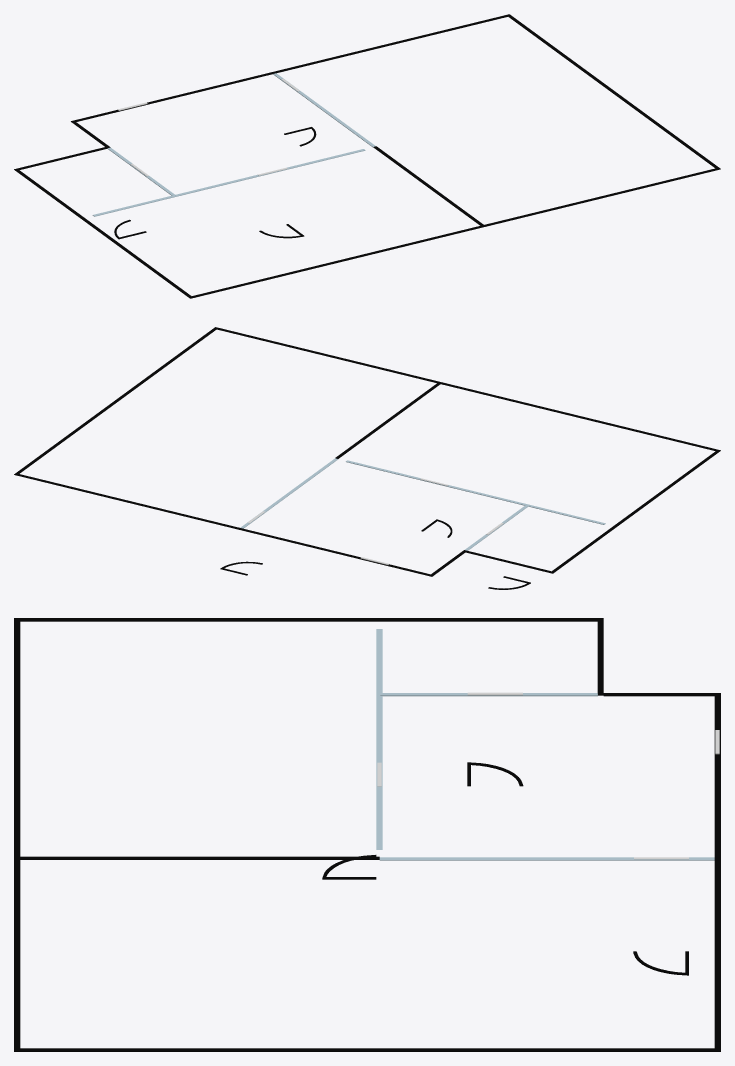
File: dingbuxian_hei.fbx
3 renders of one model, top to bottom at view 1: azimuth 30°, elevation 25°; view 2: azimuth 150°, elevation 25°; view 3: azimuth 270°, elevation 25°, orthographic. The views are drawn at different scales.
Visible parts, largest first — view 1: polySurface18, polySurface23, polySurface22, polySurface25, polySurface19, polySurface17; view 2: polySurface18, polySurface23, polySurface22, polySurface19, polySurface25, polySurface17; view 3: polySurface18, polySurface22, polySurface23, polySurface19, polySurface25, polySurface17, polySurface24, polySurface27.
Part boxes in pixels (x1=…): polySurface18: x1=188, y1=167, x2=720, y2=298; polySurface23: x1=71, y1=14, x2=509, y2=121; polySurface22: x1=507, y1=14, x2=719, y2=169; polySurface25: x1=92, y1=149, x2=365, y2=216; polySurface19: x1=14, y1=168, x2=191, y2=296; polySurface17: x1=373, y1=146, x2=484, y2=226; polySurface18: x1=214, y1=327, x2=720, y2=450; polySurface23: x1=14, y1=474, x2=431, y2=576; polySurface22: x1=14, y1=327, x2=217, y2=474; polySurface19: x1=550, y1=449, x2=720, y2=573; polySurface25: x1=346, y1=460, x2=605, y2=524; polySurface17: x1=335, y1=381, x2=441, y2=458; polySurface18: x1=14, y1=618, x2=20, y2=1050; polySurface22: x1=14, y1=1048, x2=720, y2=1051; polySurface23: x1=714, y1=695, x2=720, y2=1050; polySurface19: x1=14, y1=618, x2=603, y2=621; polySurface25: x1=376, y1=629, x2=382, y2=849; polySurface17: x1=14, y1=856, x2=379, y2=859; polySurface24: x1=379, y1=857, x2=714, y2=860; polySurface27: x1=380, y1=693, x2=597, y2=696.
Size of the model in its own units: 1324 by 135 by 914.
